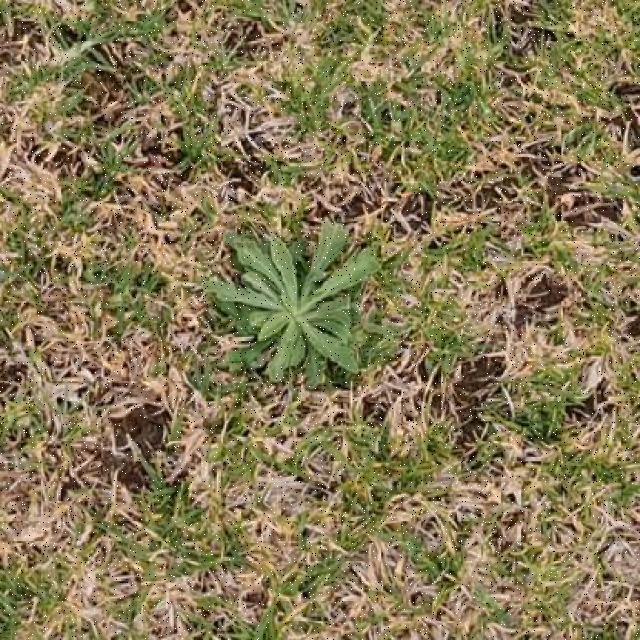weed: (205, 222, 378, 387)
